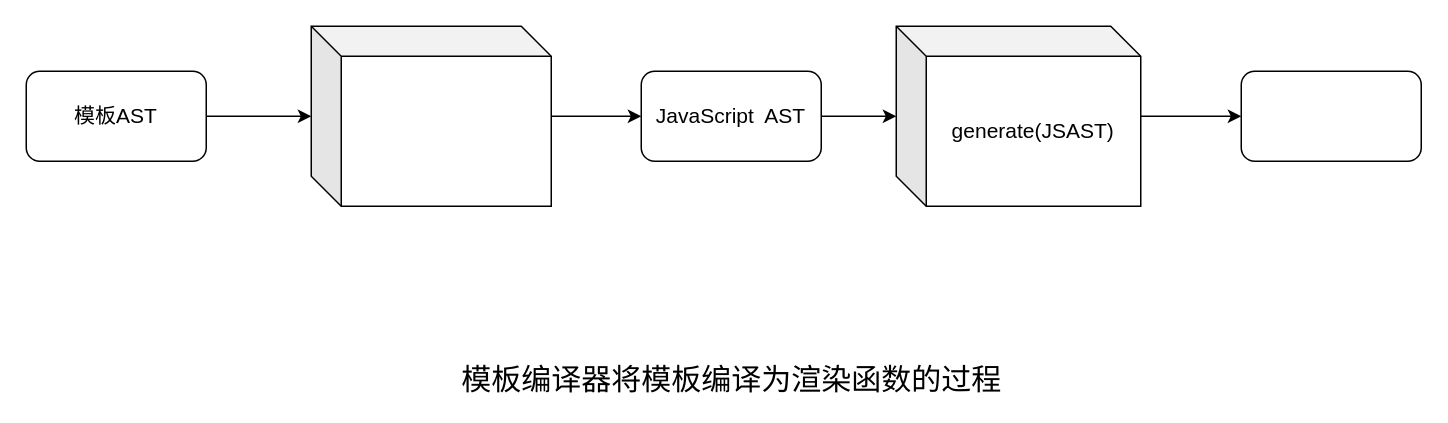
This 1448x423 diagram has some shape labels left out. The centre of each missing label's shape, as x and y in pixels:
"transform(ast)" goes at (430,115).
"渲染函数" goes at (1330,115).
